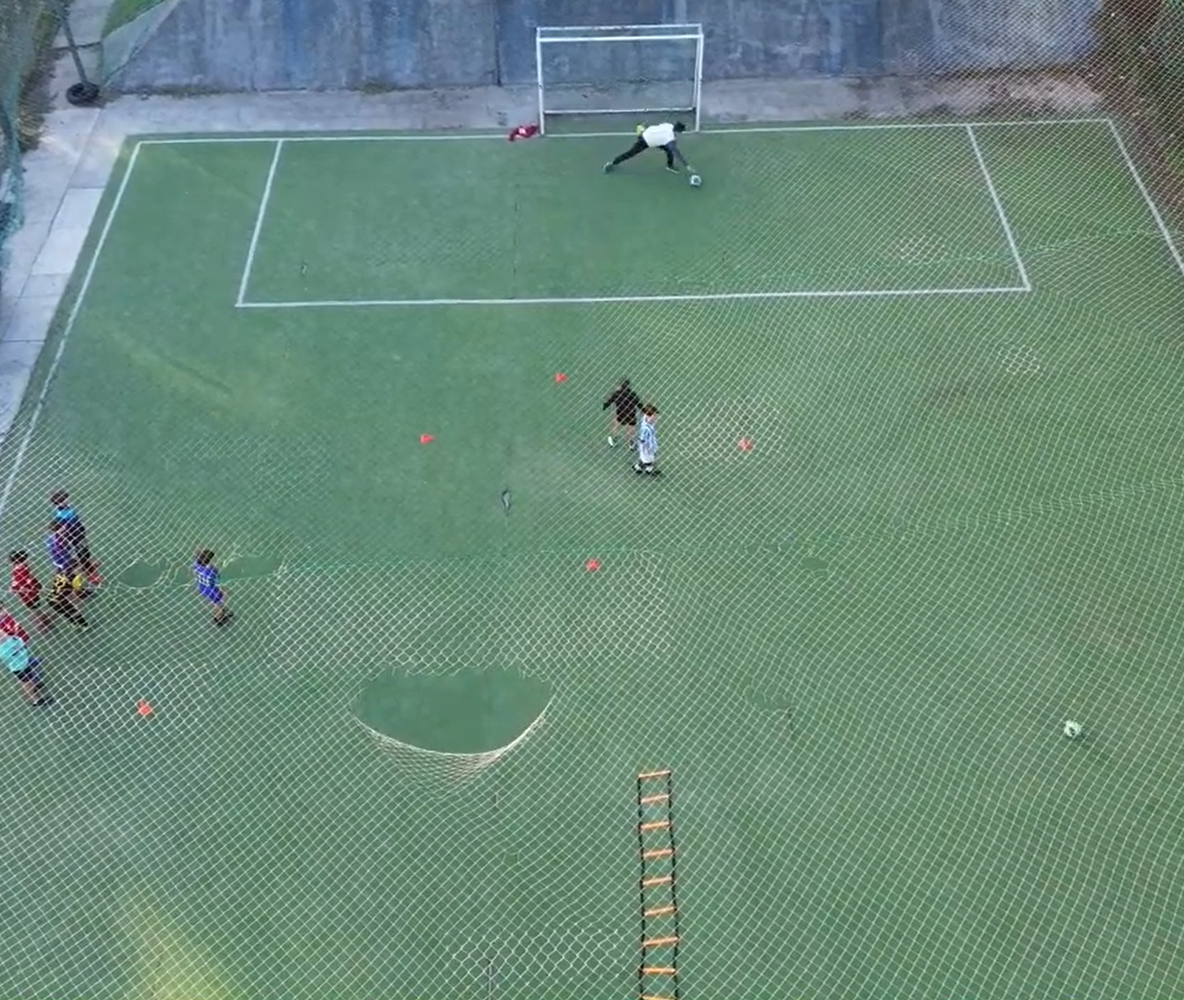cone: (129, 693, 163, 722), (578, 551, 612, 580), (547, 368, 578, 393), (732, 429, 759, 451), (417, 420, 434, 451)
goal: (522, 12, 710, 139)
ladder: (620, 749, 693, 1000)
